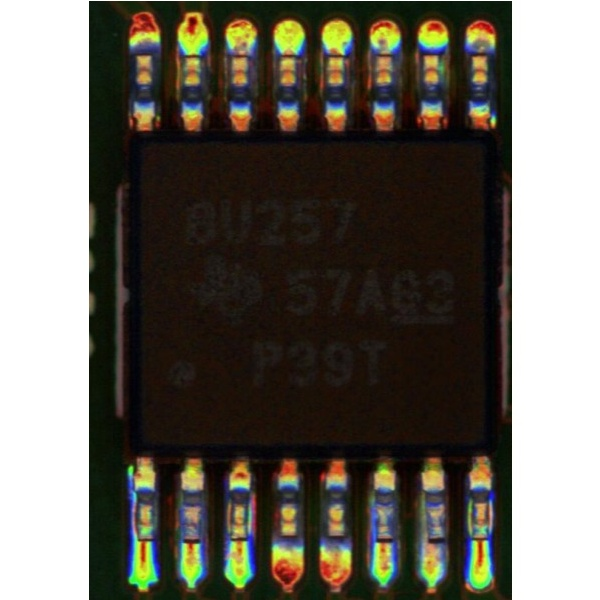Bad_podu: (325, 46, 343, 64), (181, 533, 200, 549), (230, 48, 248, 63), (427, 532, 441, 551), (375, 532, 391, 547), (279, 47, 294, 63), (471, 532, 489, 545), (136, 532, 149, 548), (231, 532, 245, 545)
Bad_qiaojiao: (125, 462, 134, 537)
